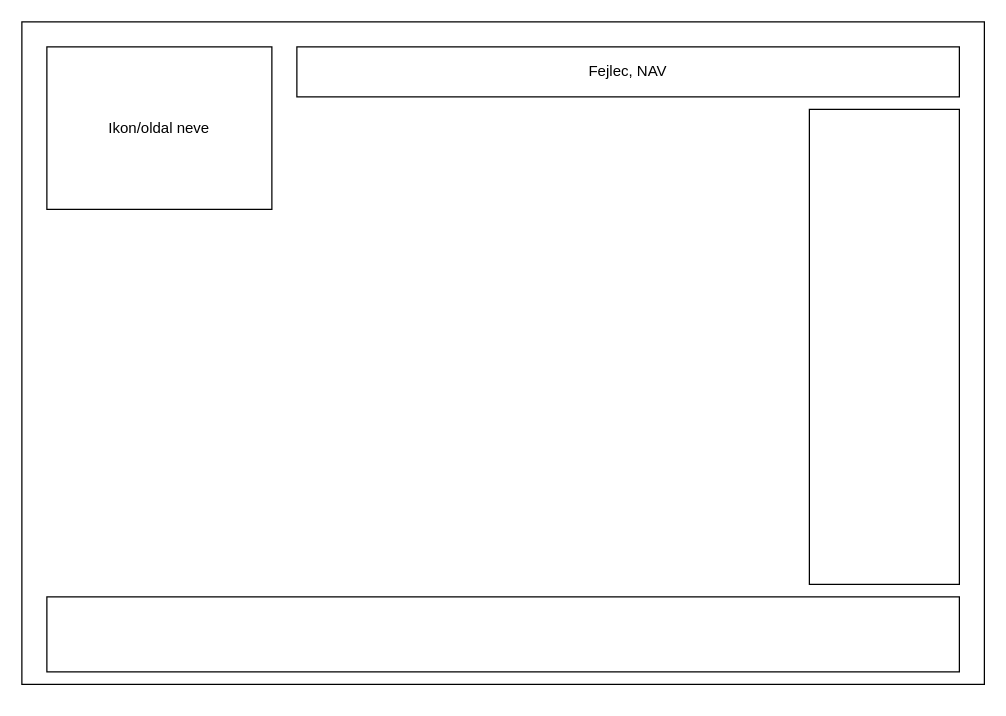
The diagram is 1006 pixels wide and 716 high, and some of its shapes have lost their labels. The shapes that lost their labels are listed below. From the top down, each one's box as (x1, y1, x2, y2) in pixels, then its label:
(808, 108, 959, 584): Aside
(46, 596, 959, 672): Footer (neveink)
